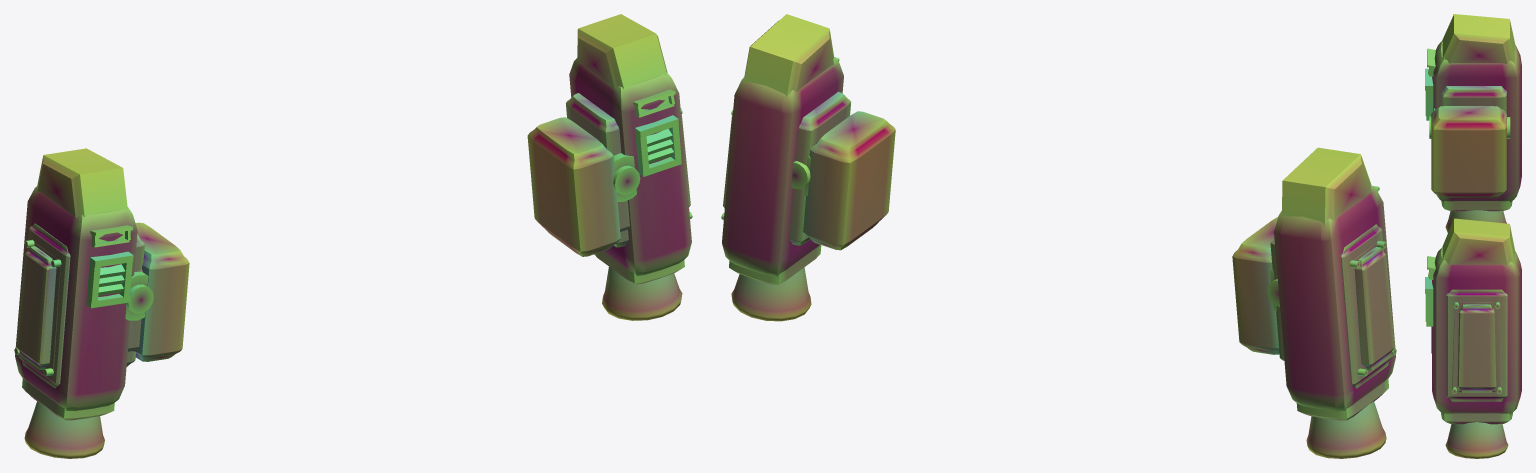
The model's file is llm_gen_leg_thrusters_037_3e6a57.glb.
The picture shows the model from 3 angles, left to right: view 1: azimuth 30°, elevation 25°; view 2: azimuth 150°, elevation 25°; view 3: azimuth 270°, elevation 25°; orthographic projection. The views are drawn at different scales.
Visible parts, largest first — view 1: calf_thruster_hull_1_wing_white_l, calf_thruster_hull_1_wing_white_r, adapter_calf_clamp_r, adapter_calf_clamp_l, nacelle_upper_cowl_2_barrel_metal_r, nacelle_upper_cowl_2_barrel_metal_l, nacelle_flank_armor_6_barrel_metal_l, calf_main_bell_8_vernier_bell_vernier_l, calf_main_bell_8_vernier_bell_vernier_r, adapter_sub_flank_frame_dark_5_adapter_dark_l, adapter_sub_tank_cradle_dark_0_adapter_dark_r, adapter_sub_nacelle_intake_louver_3_dark_l (+5 smaller); view 2: calf_thruster_hull_1_wing_white_l, calf_thruster_hull_1_wing_white_r, adapter_calf_clamp_r, nacelle_upper_cowl_2_barrel_metal_r, nacelle_upper_cowl_2_barrel_metal_l, adapter_calf_clamp_l, nacelle_flank_armor_6_barrel_metal_l, calf_main_bell_8_vernier_bell_vernier_l, calf_main_bell_8_vernier_bell_vernier_r, adapter_sub_tank_cradle_dark_0_adapter_dark_r, adapter_sub_flank_frame_dark_5_adapter_dark_l, adapter_sub_nozzle_shroud_dark_7_adapter_dark_l (+1 smaller); view 3: adapter_calf_clamp_l, calf_thruster_hull_1_wing_white_r, calf_thruster_hull_1_wing_white_l, nacelle_flank_armor_6_barrel_metal_r, nacelle_upper_cowl_2_barrel_metal_l, nacelle_upper_cowl_2_barrel_metal_r, adapter_sub_flank_frame_dark_5_adapter_dark_r, calf_main_bell_8_vernier_bell_vernier_r, adapter_sub_tank_cradle_dark_0_adapter_dark_l, adapter_sub_nozzle_shroud_dark_7_adapter_dark_r, adapter_sub_nozzle_shroud_dark_7_adapter_dark_l, calf_main_bell_8_vernier_bell_vernier_l (+5 smaller).
Part boxes in pixels (x1,y1,x2,y2): calf_thruster_hull_1_wing_white_l: (15,185,137,410); calf_thruster_hull_1_wing_white_r: (569,57,691,275); adapter_calf_clamp_r: (527,117,636,256); adapter_calf_clamp_l: (125,222,189,361); nacelle_upper_cowl_2_barrel_metal_r: (577,14,667,89); nacelle_upper_cowl_2_barrel_metal_l: (37,148,127,218); nacelle_flank_armor_6_barrel_metal_l: (14,239,61,375); calf_main_bell_8_vernier_bell_vernier_l: (24,401,104,458); calf_main_bell_8_vernier_bell_vernier_r: (602,266,682,320); adapter_sub_flank_frame_dark_5_adapter_dark_l: (18,223,70,388); adapter_sub_tank_cradle_dark_0_adapter_dark_r: (566,93,628,247); adapter_sub_nacelle_intake_louver_3_dark_l: (86,251,133,308); calf_thruster_hull_1_wing_white_l: (1274,185,1395,411); calf_thruster_hull_1_wing_white_r: (722,57,843,276); adapter_calf_clamp_r: (803,111,895,250); nacelle_upper_cowl_2_barrel_metal_r: (743,14,834,97); nacelle_upper_cowl_2_barrel_metal_l: (1281,147,1371,226); adapter_calf_clamp_l: (1232,217,1279,354); nacelle_flank_armor_6_barrel_metal_l: (1349,240,1396,376); calf_main_bell_8_vernier_bell_vernier_l: (1306,401,1386,458); calf_main_bell_8_vernier_bell_vernier_r: (731,267,811,321); adapter_sub_tank_cradle_dark_0_adapter_dark_r: (789,91,851,245); adapter_sub_flank_frame_dark_5_adapter_dark_l: (1340,224,1392,388); adapter_sub_nozzle_shroud_dark_7_adapter_dark_l: (1296,378,1388,420); adapter_calf_clamp_l: (1431,106,1506,197); calf_thruster_hull_1_wing_white_r: (1432,247,1521,414); calf_thruster_hull_1_wing_white_l: (1432,41,1521,202); nacelle_flank_armor_6_barrel_metal_r: (1451,302,1502,393); nacelle_upper_cowl_2_barrel_metal_l: (1442,14,1515,63); nacelle_upper_cowl_2_barrel_metal_r: (1442,218,1515,265); adapter_sub_flank_frame_dark_5_adapter_dark_r: (1446,289,1507,401); calf_main_bell_8_vernier_bell_vernier_r: (1445,422,1508,458); adapter_sub_tank_cradle_dark_0_adapter_dark_l: (1441,86,1506,113); adapter_sub_nozzle_shroud_dark_7_adapter_dark_r: (1441,413,1512,424); adapter_sub_nozzle_shroud_dark_7_adapter_dark_l: (1441,201,1512,211); calf_main_bell_8_vernier_bell_vernier_l: (1445,210,1506,232).
Bounding box in the file's own units: 84.69 × 35.12 × 14.06.
